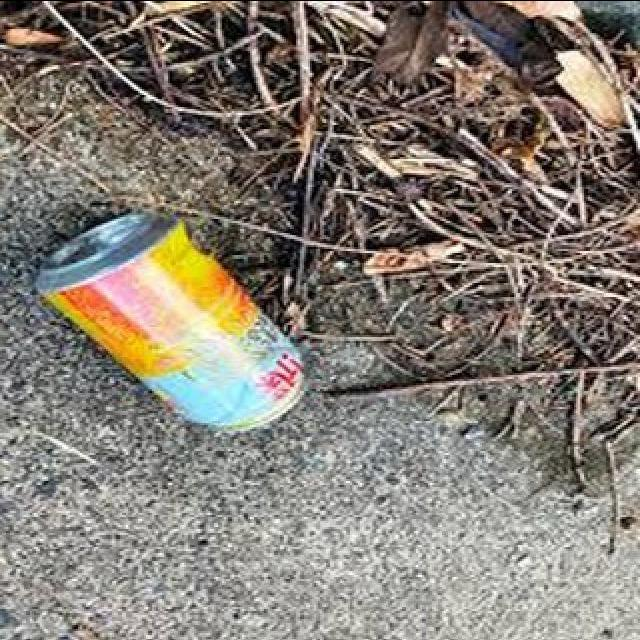can: (38, 200, 322, 426)
